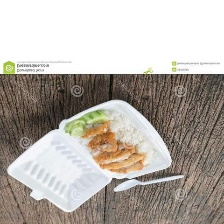foam_box: (3, 96, 176, 215)
